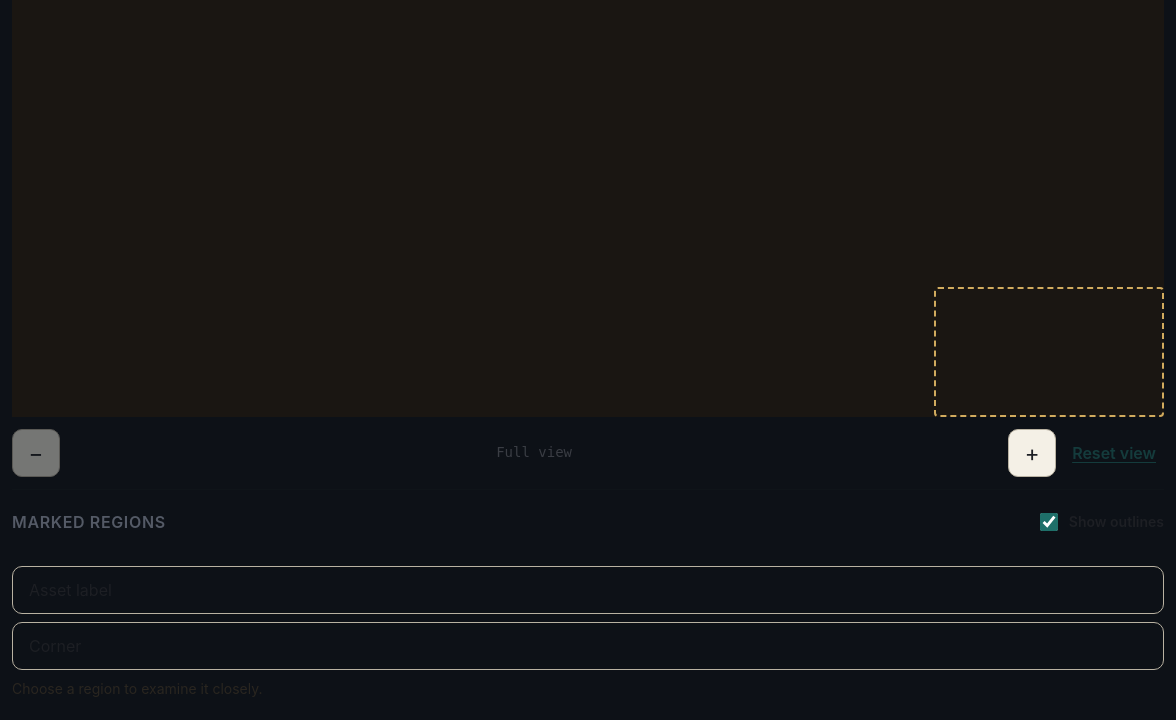
Test: PhotoViewer › zooms with buttons and resets
This screenshot has width=1176, height=720.
(page scrolled)
Click the button named "Zoom in": (1032, 453) [1008,429,1056,477]
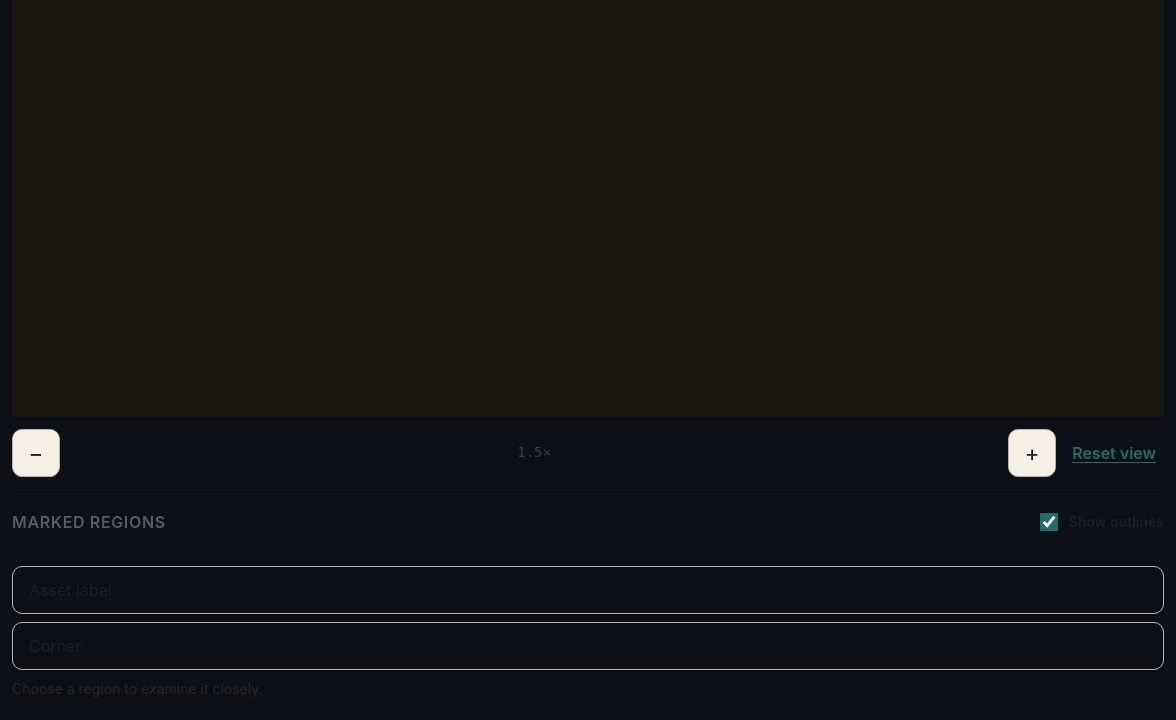
Now the text "1.5×" is shown, box [517,444,551,460]
Click the button "Reset view": (1114, 453) [1064,429,1164,477]
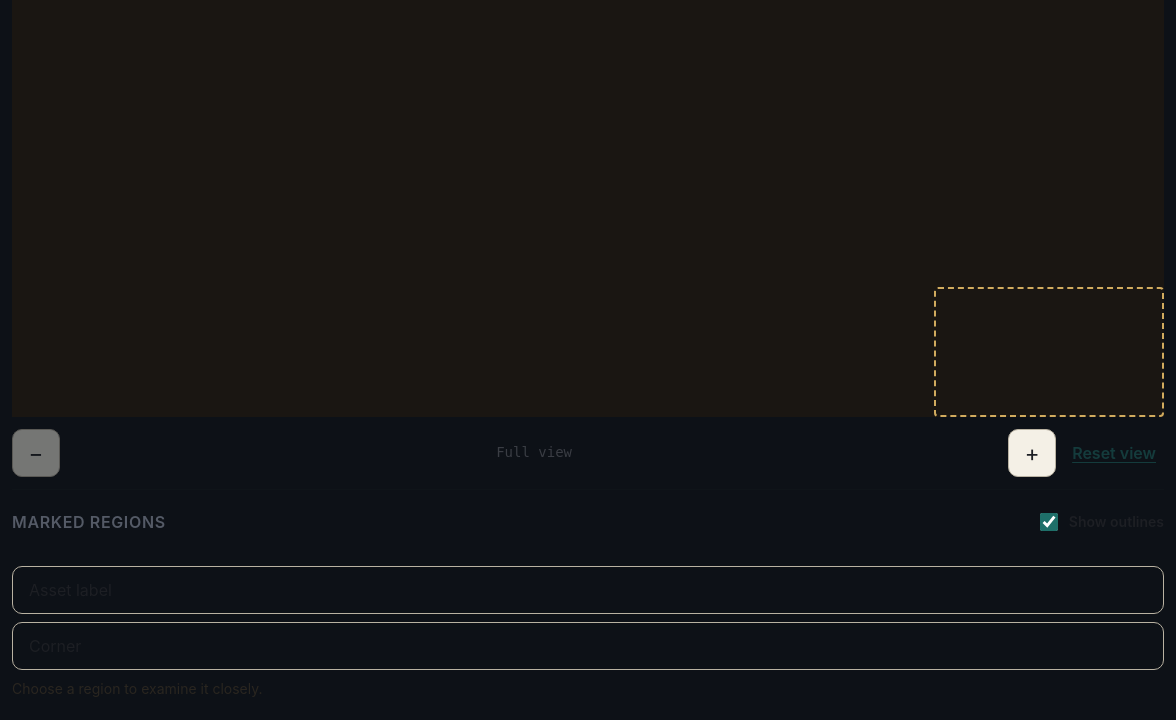
Now the text "Full view" is shown, box [496,444,572,460]
